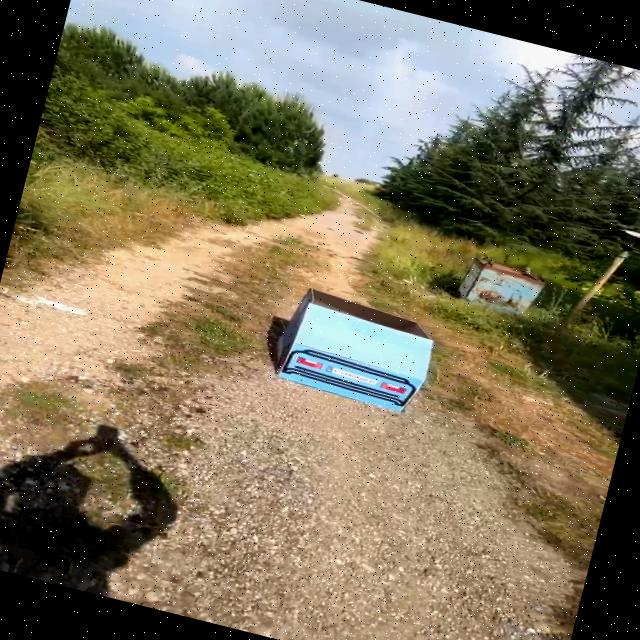blue_car: (245, 269, 455, 431)
